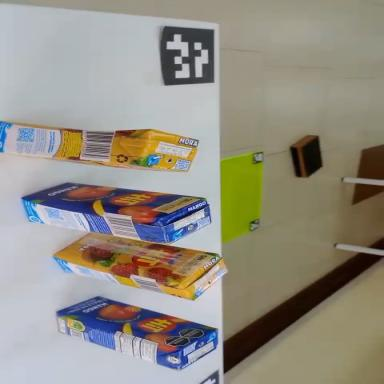HIT-MANGO: (50, 286, 221, 379), (19, 178, 213, 249)
HIT-MORA: (50, 226, 229, 305), (0, 121, 199, 173)
cara_F: (55, 287, 218, 356), (52, 227, 218, 290), (21, 178, 205, 223)
